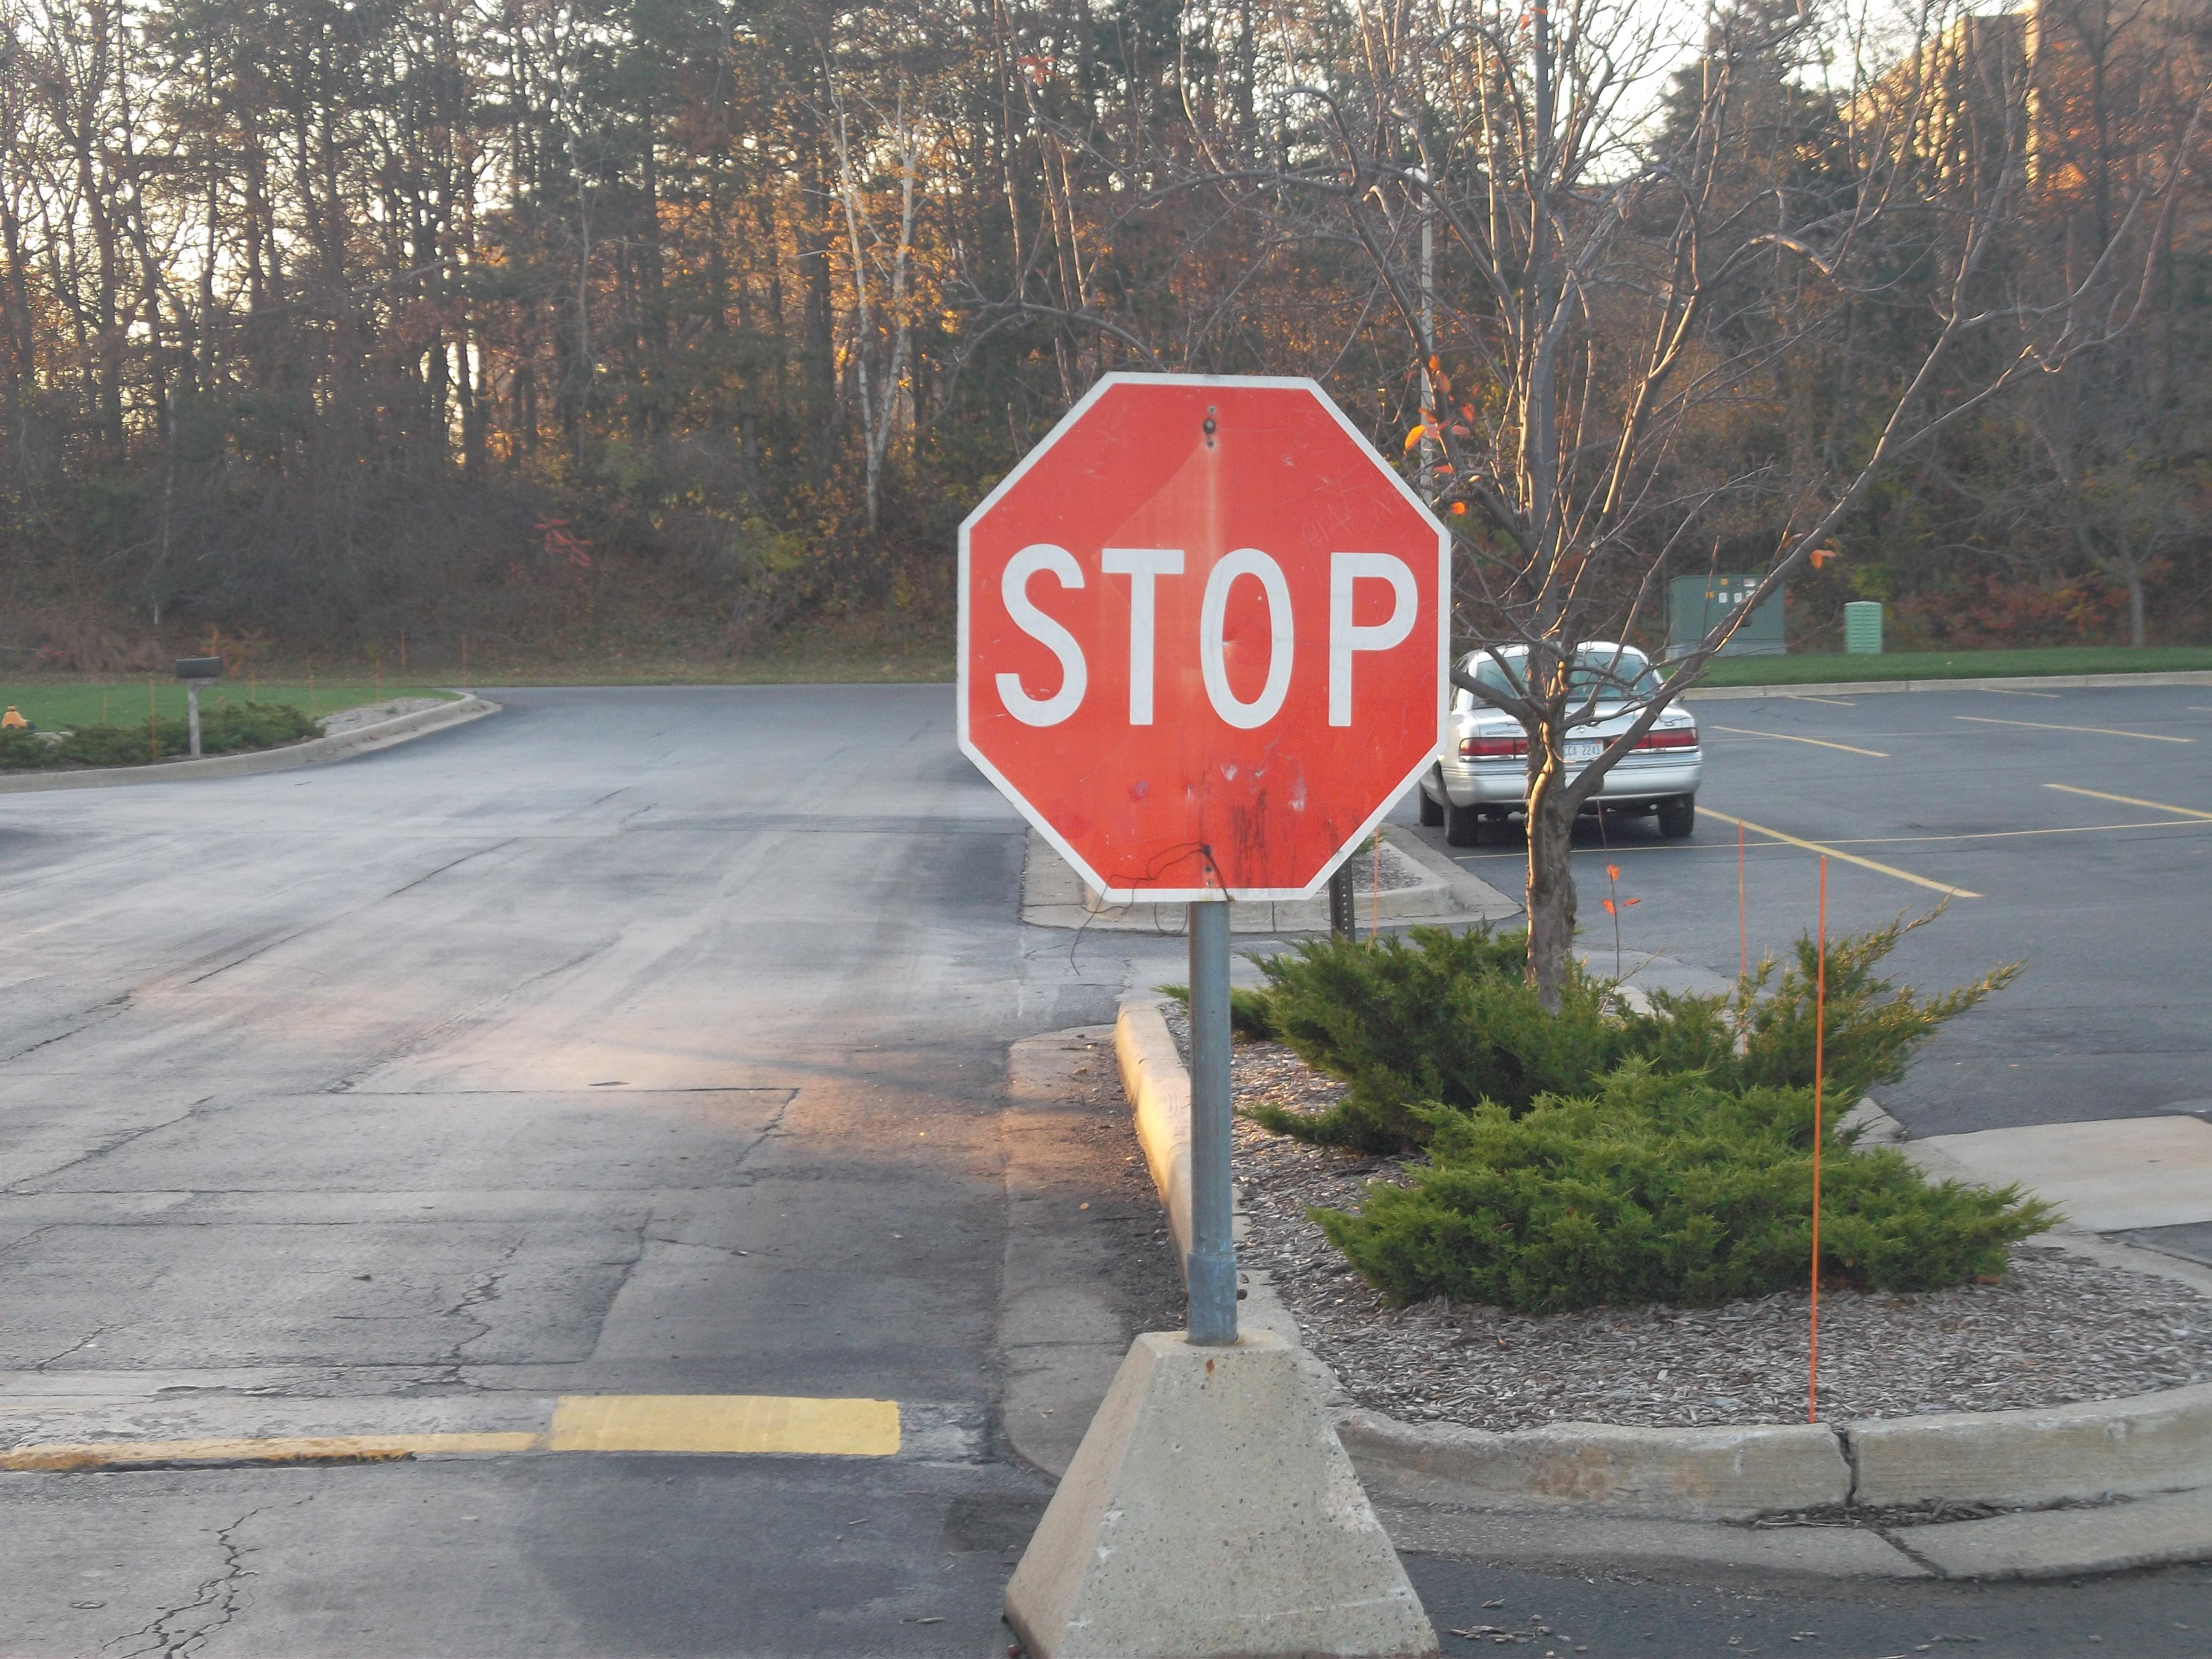stop: (942, 349, 1475, 917)
